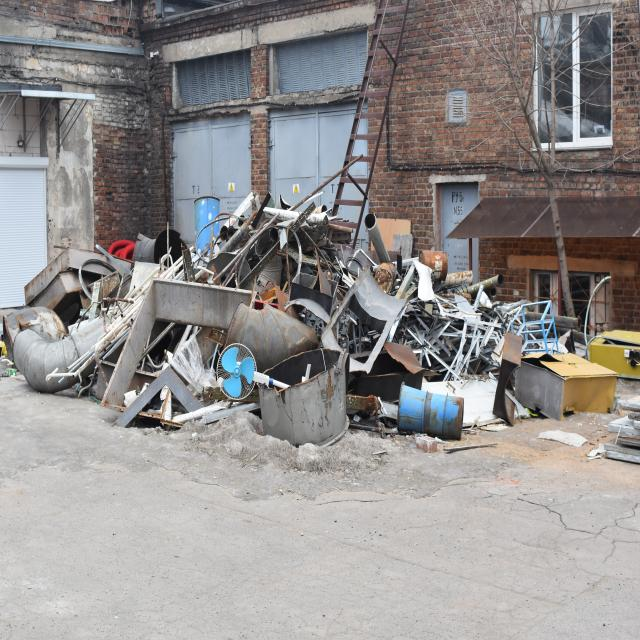entulho: (19, 224, 231, 398), (335, 2, 414, 260), (287, 251, 425, 398), (214, 340, 356, 451), (206, 270, 333, 390), (106, 302, 213, 434), (506, 333, 623, 434), (400, 277, 513, 371), (193, 194, 273, 282), (2, 298, 78, 386), (83, 239, 179, 303), (374, 383, 473, 441), (512, 296, 570, 378), (276, 190, 346, 253), (224, 224, 280, 293), (588, 320, 640, 382), (364, 212, 403, 279), (438, 261, 498, 298), (298, 233, 334, 292)
